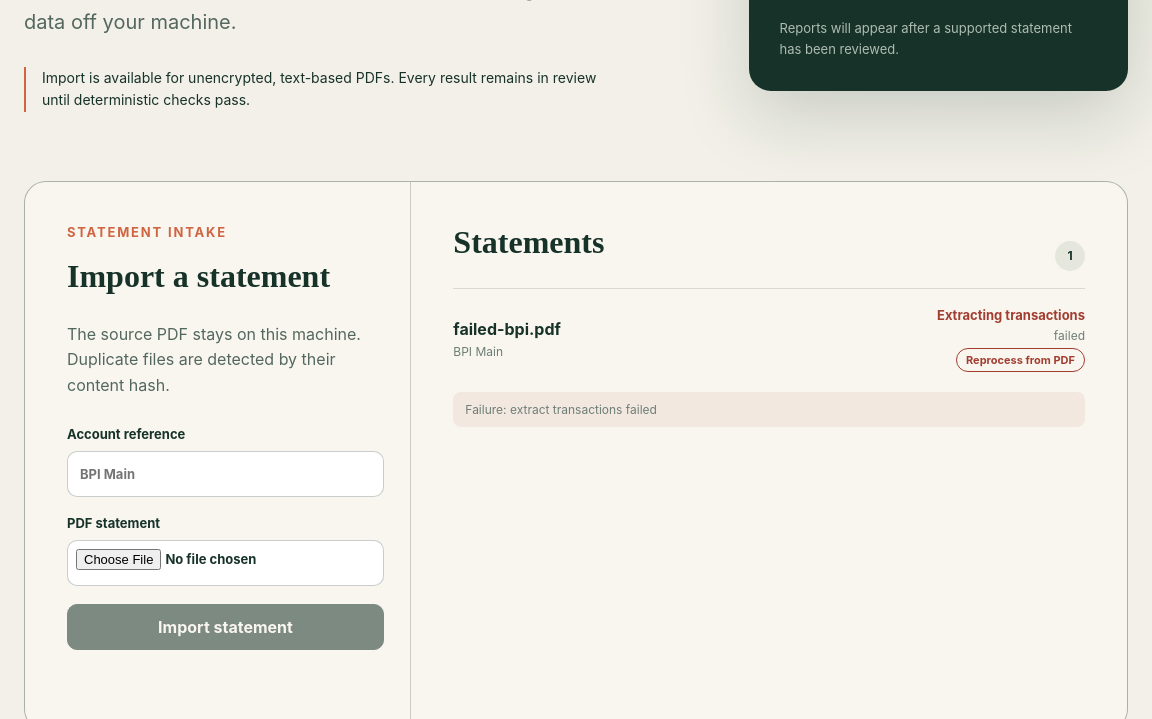
Scenario: offers source reprocessing when transaction extraction failed
(page scrolled)
What coordinates should you click on to do the following:
click the button "Reprocess from PDF"
I would click on:
 (1020, 360)
Its box is [956,348,1085,372].
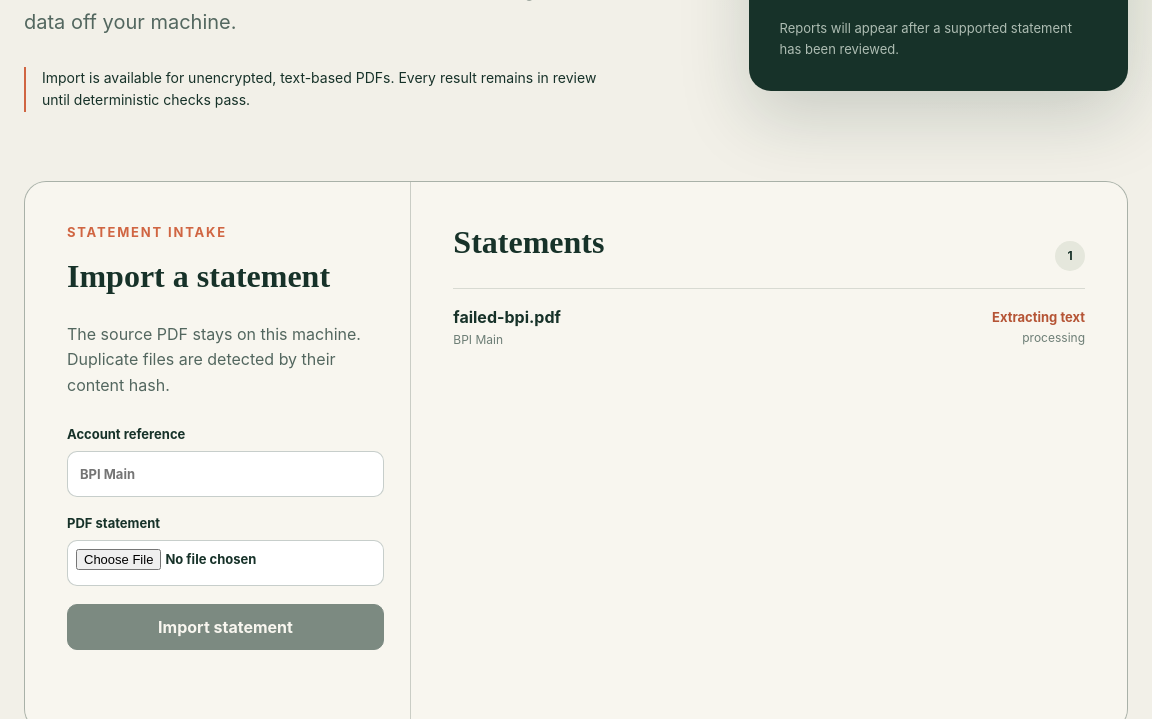
Expected: the text "Extracting text" is shown, [992,308,1085,324]
